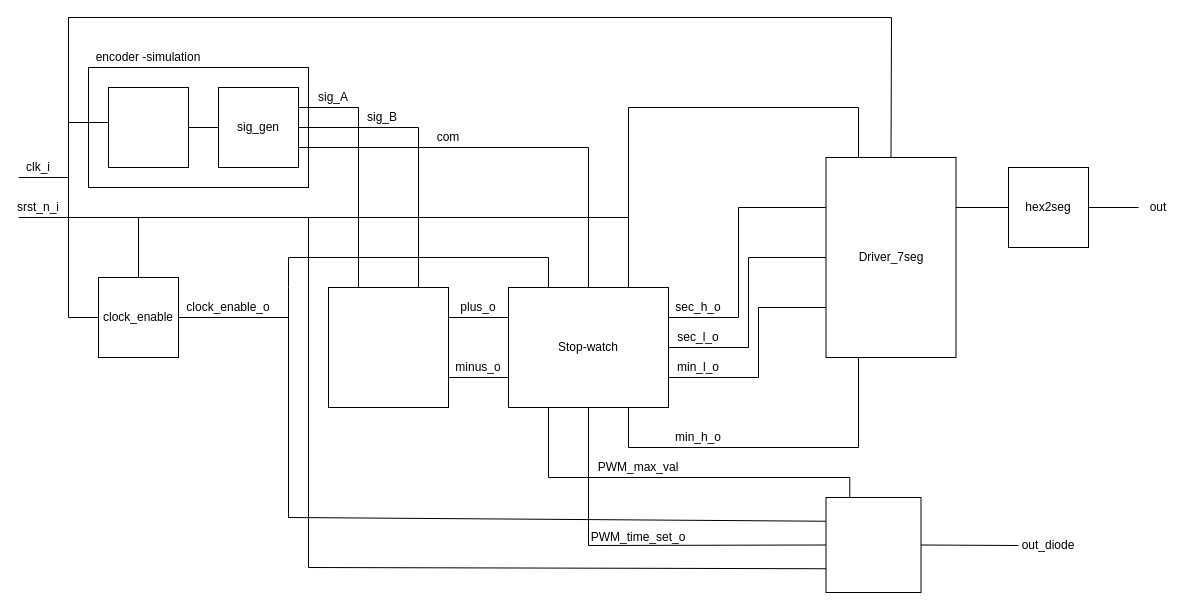
The diagram is 1195 pixels wide and 610 high, and some of its shapes have lost their labels. Here are the shapes that lost their labels. From the top down, the box of each, then its label:
(108, 86, 188, 168): Clock enable
(328, 286, 448, 408): enc_analyser
(825, 496, 921, 592): PWM_generator
